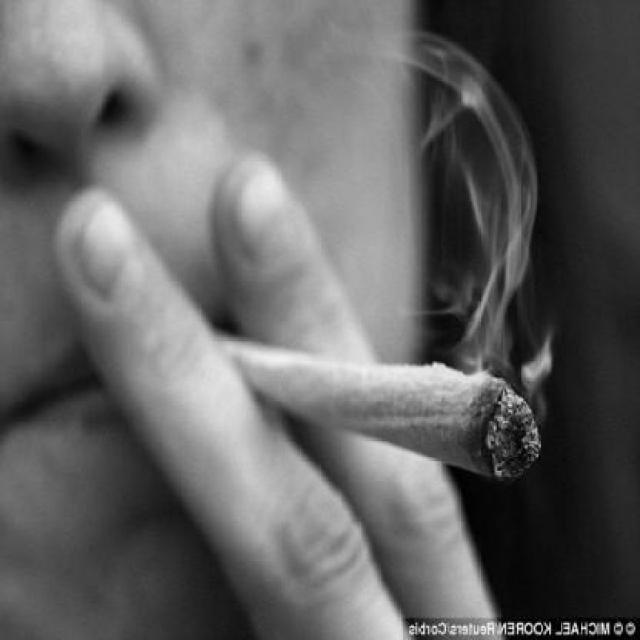smoke: (198, 326, 540, 483)
